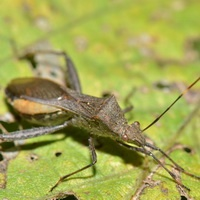insect: (0, 49, 199, 199)
